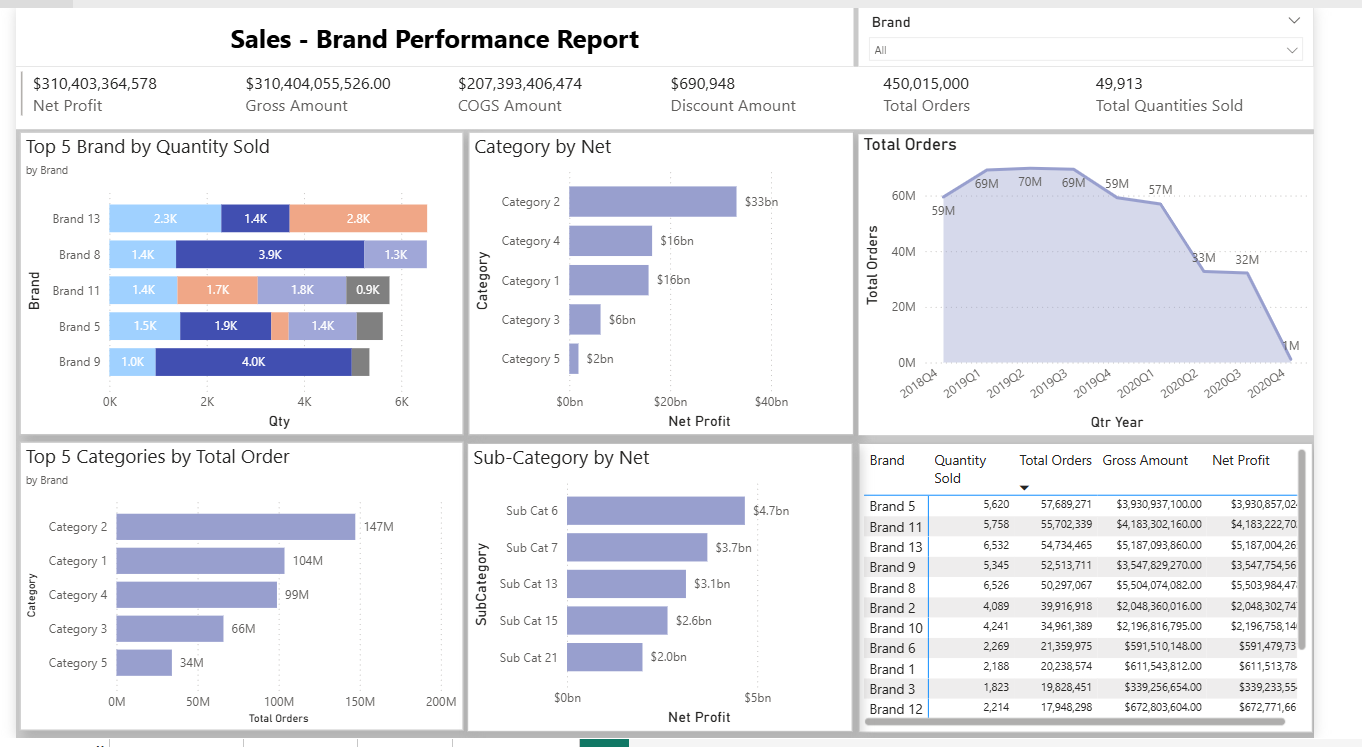

The dashboard page shown, as its layout file describes it:
{"tool":"powerbi","page":{"name":"Sales Report","canvas":[1280,720],"ordinal":0},"visuals":[{"type":"barChart","title":"Top 5 Brand by Quantity Sold","fields":{"Category":["Item.Brand"],"Series":["Item.Category"],"Y":["Sum(Sales.Qty)"]},"box":[3.7,122.1,437.7,299.6],"z":0},{"type":"clusteredBarChart","title":"Category by Net","fields":{"Category":["Item.Category"],"Y":["Measures Table.Net Profit"]},"box":[446.3,122.1,379.7,299.6],"z":1000},{"type":"multiRowCard","fields":{"Values":["Measures Table.Net Profit","Measures Table.Gross Amount","Measures Table.COGS Amount","Measures Table.Discount Amount","Measures Table.Total Orders","Measures Table.Total Quantities Sold"]},"box":[0,57.9,1279.7,61.6],"z":2000},{"type":"shape","title":"Product wise Sales Report","box":[0,0,826,57.9],"z":3000},{"type":"pivotTable","title":"Category","fields":{"Rows":["Item.Brand"],"Values":["Measures Table.Total Quantities Sold","Measures Table.Total Orders","Measures Table.Gross Amount","Measures Table.Net Profit"]},"box":[831.4,429.2,447.8,285.2],"z":4000},{"type":"slicer","fields":{"Values":["Item.Brand"]},"box":[831.2,0,187.5,57.5],"z":5000},{"type":"areaChart","title":"Total Orders","fields":{"Category":["Calender.Qtr Year","Calender.Month Year"],"Y":["Measures Table.Total Orders"]},"box":[831,124.5,448.8,297.1],"z":6000},{"type":"barChart","title":"Top 5 Categories by Total Order","fields":{"Category":["Item.Category"],"Y":["Measures Table.Total Orders"]},"box":[3.7,427.8,437.7,284.8],"z":7000},{"type":"clusteredBarChart","title":"Sub-Category by Net","fields":{"Category":["Item.SubCategory"],"Y":["Measures Table.Net Profit"]},"box":[445.1,429,379.7,284.8],"z":8000},{"type":"slicer","fields":{"Values":["Item.Category"]},"box":[1018.8,0,260,57.5],"z":9000}]}

Visuals, with their boxes in screenshot pixels (x1, y1, x2, y2), scaled from the page's 1280x720 canvas onto the 1362x747 screenshot:
"Top 5 Brand by Quantity Sold" barChart: crop(4, 127, 470, 438)
"Category by Net" clusteredBarChart: crop(475, 127, 879, 438)
multiRowCard - Measures Table.Net Profit x Measures Table.Gross Amount: crop(0, 60, 1361, 124)
"Product wise Sales Report" shape: crop(0, 0, 879, 60)
"Category" pivotTable: crop(885, 445, 1361, 741)
slicer - Item.Brand: crop(884, 0, 1084, 60)
"Total Orders" areaChart: crop(884, 129, 1361, 437)
"Top 5 Categories by Total Order" barChart: crop(4, 444, 470, 739)
"Sub-Category by Net" clusteredBarChart: crop(474, 445, 878, 741)
slicer - Item.Category: crop(1084, 0, 1361, 60)
